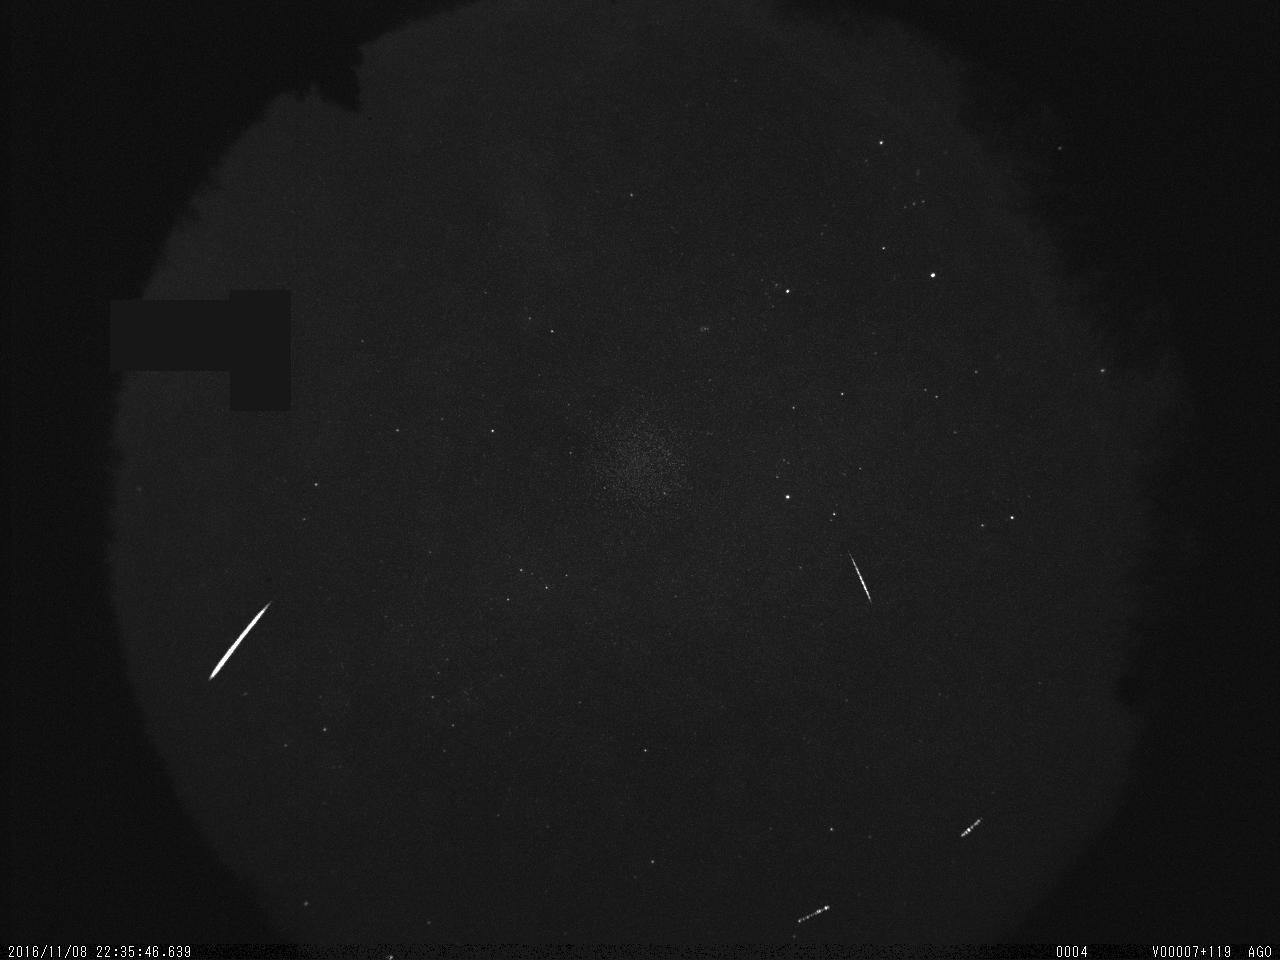Meteor: (204, 592, 277, 685), (845, 544, 877, 615)
